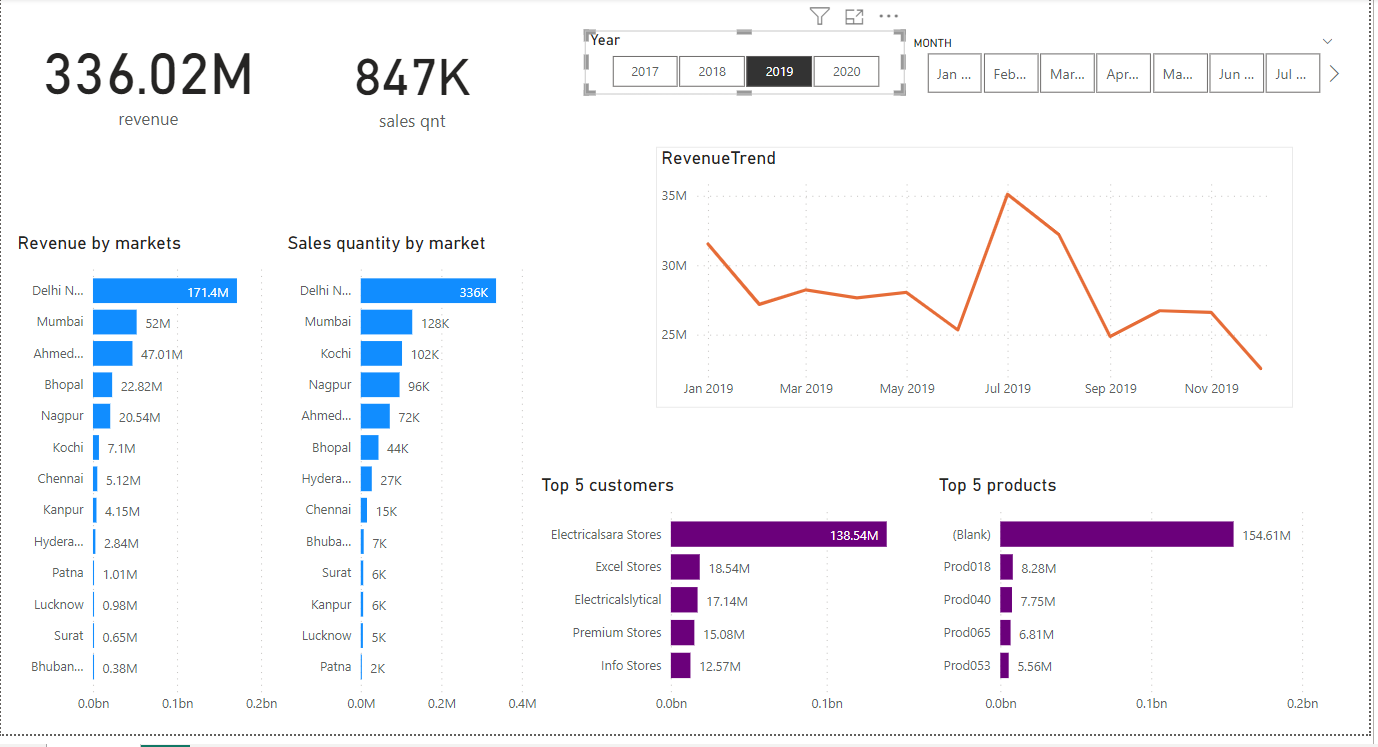

Layout of this report page (visuals, bound fields, positions):
{"tool":"powerbi","page":{"name":"Page 1","canvas":[1286,692],"ordinal":0},"visuals":[{"type":"card","fields":{"Values":["basemeasures.revenue"]},"box":[12.9,10.6,251.4,129.2],"z":0},{"type":"card","fields":{"Values":["basemeasures.sales qnt"]},"box":[290.2,0,192.7,159.8],"z":1000},{"type":"barChart","title":"Revenue by markets","fields":{"Y":["basemeasures.revenue"],"Category":["sales markets.markets_name"]},"box":[10.6,219.7,253.8,461.7],"z":2000},{"type":"barChart","title":"Sales quantity by market","fields":{"Y":["basemeasures.sales qnt"],"Category":["sales markets.markets_name"]},"box":[264.3,219.7,244.4,461.7],"z":3000},{"type":"slicer","fields":{"Values":["sales date.cy_date"]},"box":[844.7,30.5,419.4,65.8],"z":4000},{"type":"barChart","title":"Top 5 customers","fields":{"Category":["sales customers.custmer_name"],"Y":["basemeasures.revenue"]},"box":[502.8,447.6,367.7,233.8],"z":5000},{"type":"slicer","title":"Year","fields":{"Values":["sales date.year"]},"box":[548.7,30.5,300.8,59.9],"z":6000},{"type":"barChart","title":"Top 5 products","fields":{"Y":["basemeasures.revenue"],"Category":["sales products.product_code"]},"box":[876.5,447.6,367.7,233.8],"z":7000},{"type":"lineChart","title":"RevenueTrend","fields":{"Y":["basemeasures.revenue"],"Category":["sales date.cy_date.Variation.Date Hierarchy.Year","sales date.cy_date.Variation.Date Hierarchy.Quarter","sales date.cy_date.Variation.Date Hierarchy.Month","sales date.cy_date.Variation.Date Hierarchy.Day"]},"box":[615.6,139.8,599.2,245.5],"z":8000}]}

Visuals, with their boxes in screenshot pixels (x1, y1, x2, y2), scaled from the page's 1286x692 canvas onto the 1378x747 screenshot:
card - basemeasures.revenue: 14,11,283,151
card - basemeasures.sales qnt: 311,0,517,173
"Revenue by markets" barChart: 11,237,283,736
"Sales quantity by market" barChart: 283,237,545,736
slicer - sales date.cy_date: 905,33,1355,104
"Top 5 customers" barChart: 539,483,933,736
"Year" slicer: 588,33,910,98
"Top 5 products" barChart: 939,483,1333,736
"RevenueTrend" lineChart: 660,151,1302,416
